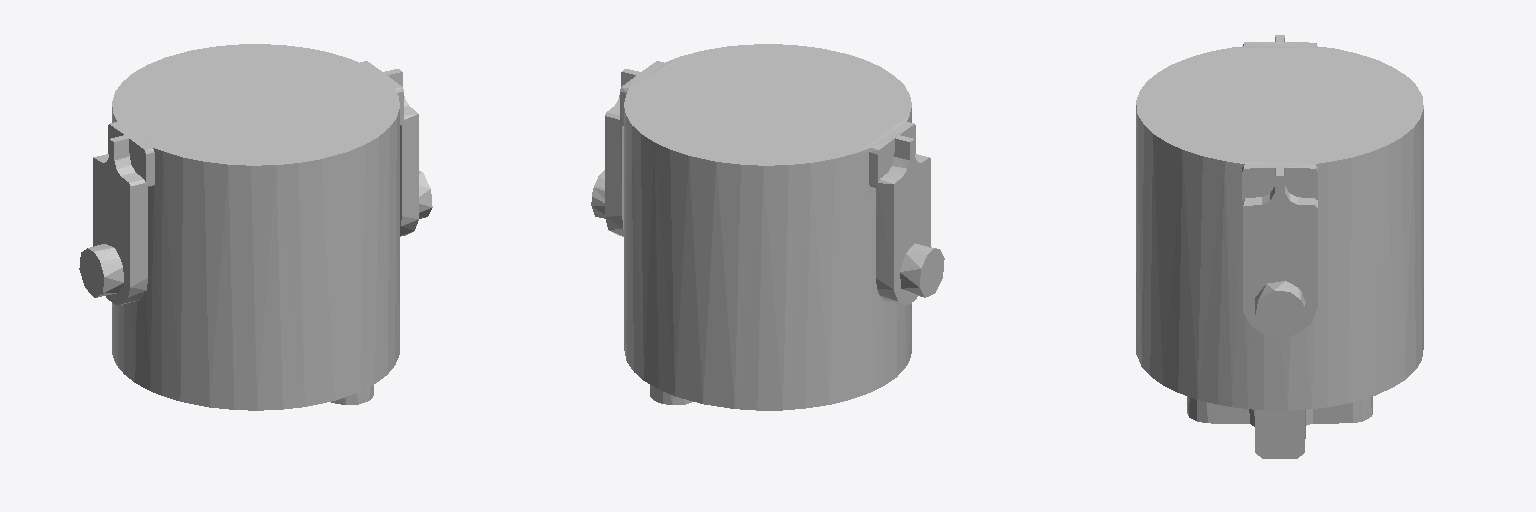
File: openarm_right_link6_collision_mesh.obj
The picture shows the model from 3 angles: view 1: azimuth 30°, elevation 25°; view 2: azimuth 150°, elevation 25°; view 3: azimuth 270°, elevation 25°; orthographic projection.
Bounding box in the file's own units: 0.075 × 0.066 × 0.057.